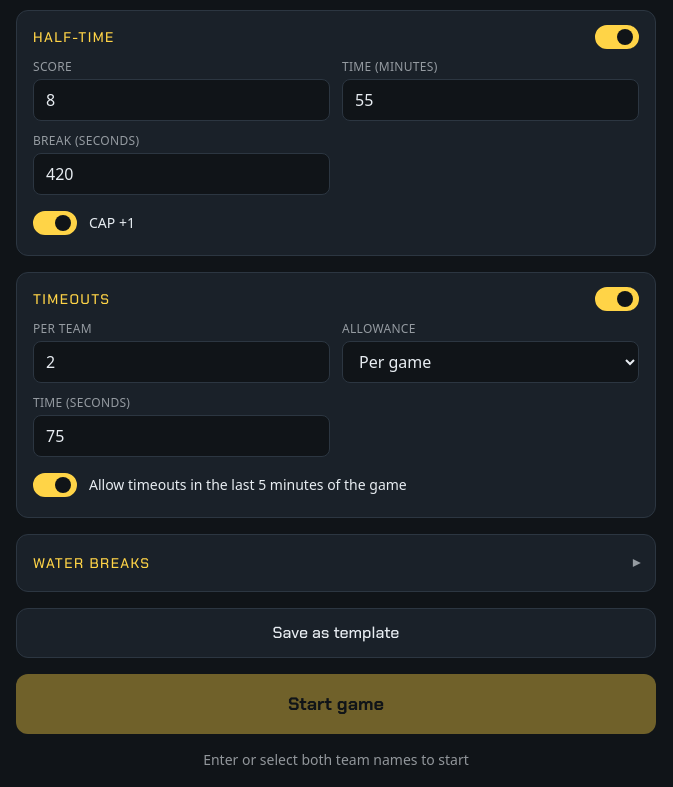
Scenario: config screen water break section › ships the WFDF hot-weather defaults, switched off
(page scrolled)
Click the button with aria-label "Expand Water breaks" at x=92, y=563, box [33,551,639,575]
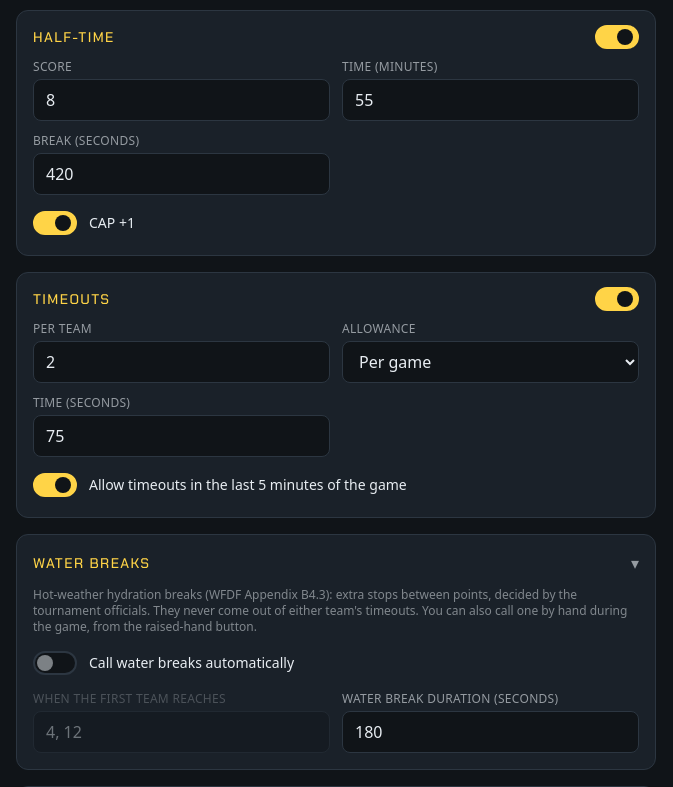
Now the 3rd checkbox labelled "Call water breaks automatically" is not checked
Now the field labelled "When the first team reaches" is disabled, box [33,711,330,753]
Now the field labelled "When the first team reaches" holds "4, 12", box [33,711,330,753]
Click the 3rd checkbox labelled "Call water breaks automatically" at x=164, y=663, box [33,651,294,675]
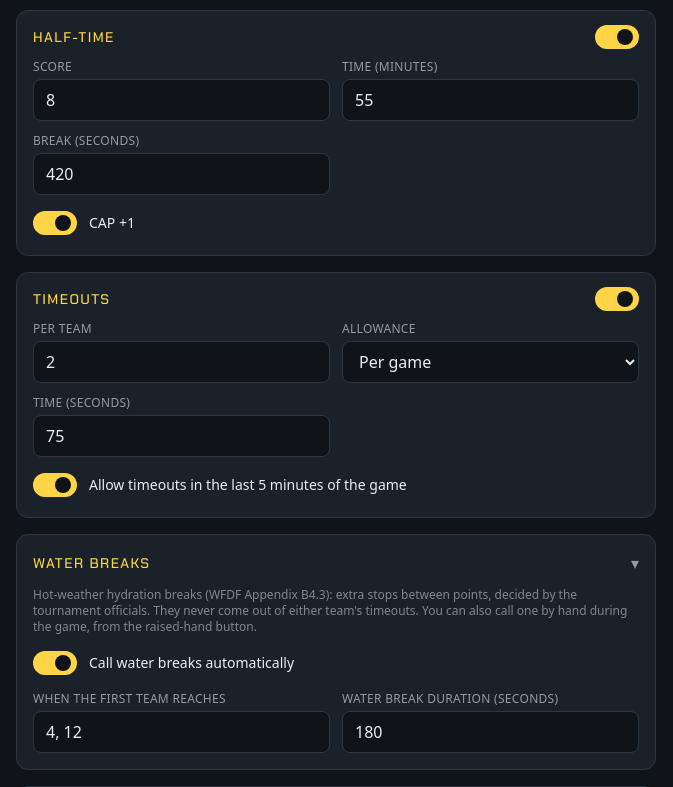
Now the field labelled "When the first team reaches" is enabled, box [33,711,330,753]
